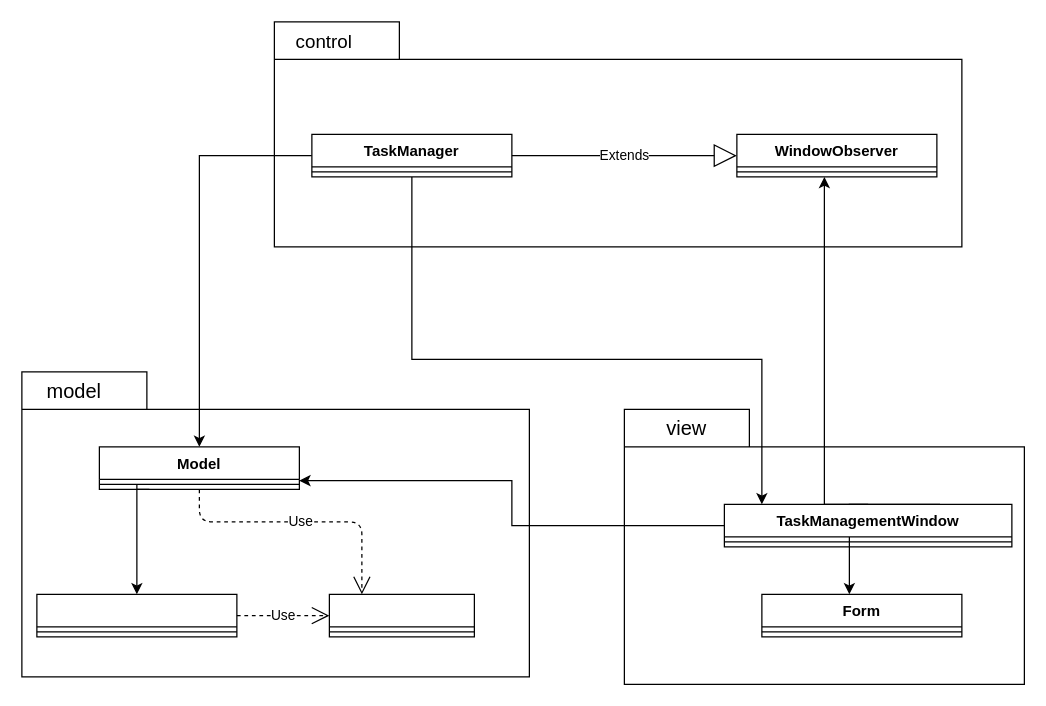
Some shapes in this 1046 by 706 pixel diagram are drawn without their labels. The box of each missing label's shape, as (x1, y1, x2, y2) in pixels:
Handler3270: (36, 593, 237, 637)
Task: (328, 593, 474, 637)
